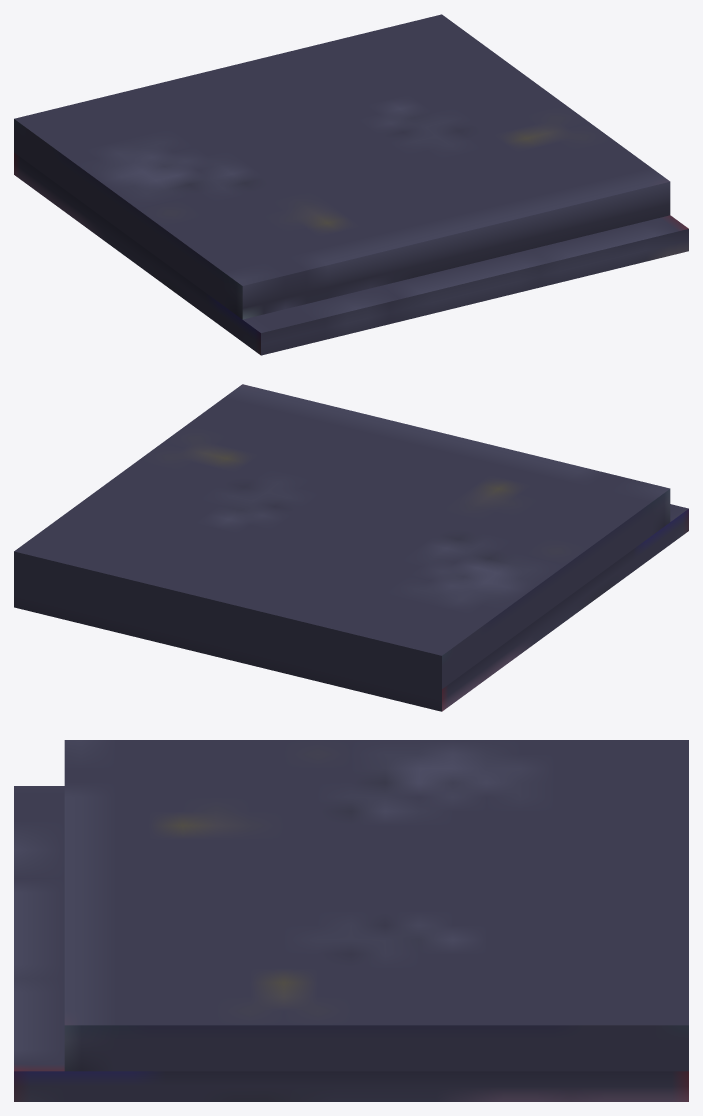
Rendered from PavementTile_H_00.fbx.
3 views of the same model, one above another, from view 1: azimuth 30°, elevation 25°; view 2: azimuth 150°, elevation 25°; view 3: azimuth 270°, elevation 25° (orthographic). The views are drawn at different scales.
Parts seen in each view (by area): view 1: PavementTile_H_00; view 2: PavementTile_H_00; view 3: PavementTile_H_00.
Part boxes in pixels (x1,y1,x2,y2): PavementTile_H_00: [14, 14, 688, 355]; PavementTile_H_00: [14, 384, 688, 711]; PavementTile_H_00: [14, 740, 688, 1101].
Bounding box in the file's own units: 200 × 25 × 200.
